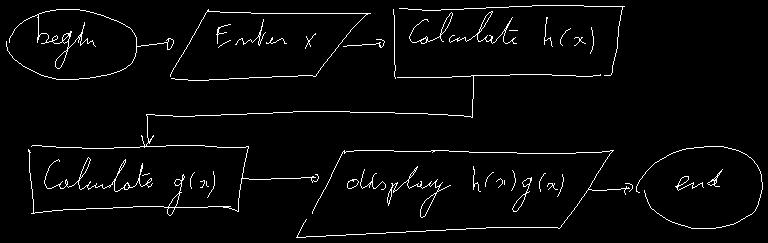arrow: (141, 76, 473, 147), (242, 174, 318, 182), (589, 183, 632, 194), (137, 38, 173, 49), (343, 39, 384, 47)
data: (296, 150, 613, 237), (170, 9, 370, 80)
process: (393, 5, 624, 78), (28, 145, 248, 213)
terminator: (636, 146, 762, 228), (6, 9, 136, 79)
text: (347, 166, 563, 217), (44, 157, 214, 215), (409, 11, 593, 53), (37, 15, 95, 68), (216, 19, 315, 48), (675, 169, 722, 190)
